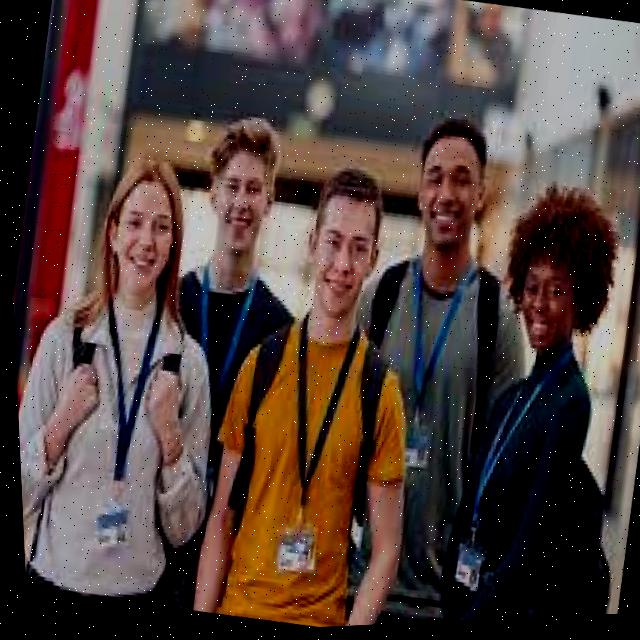id_card: (51, 282, 177, 554), (250, 318, 359, 586), (370, 260, 468, 478), (436, 380, 521, 599), (175, 261, 261, 400)
